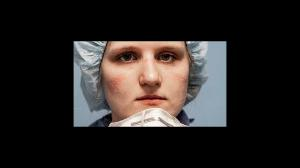mask_weared_incorrect: (112, 43, 188, 124)
